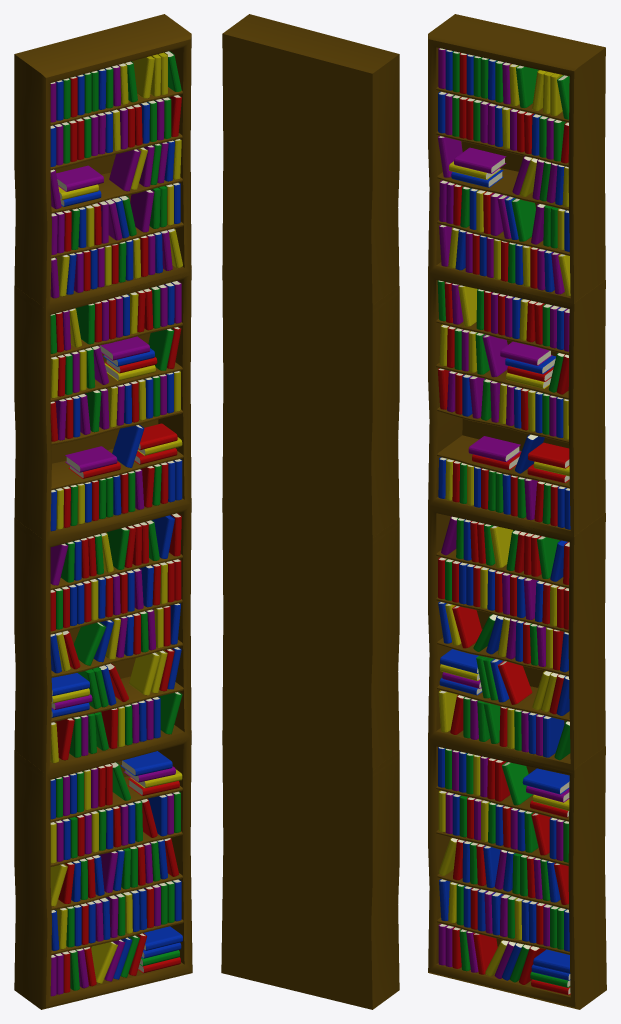
The model's file is bookshelf_2.fbx.
3 renders of one model, left to right at view 1: azimuth 30°, elevation 25°; view 2: azimuth 150°, elevation 25°; view 3: azimuth 330°, elevation 25°, orthographic.
Visible parts, largest first — view 1: books, shelf; view 2: shelf; view 3: books, shelf.
Part boxes in pixels (bbox=[...]): books: bbox=[50, 51, 182, 996]; shelf: bbox=[14, 14, 192, 1009]; shelf: bbox=[221, 14, 399, 1009]; books: bbox=[437, 48, 570, 995]; shelf: bbox=[428, 14, 606, 1009].
Size of the model in its own units: 94.85 by 563 by 31.41.
